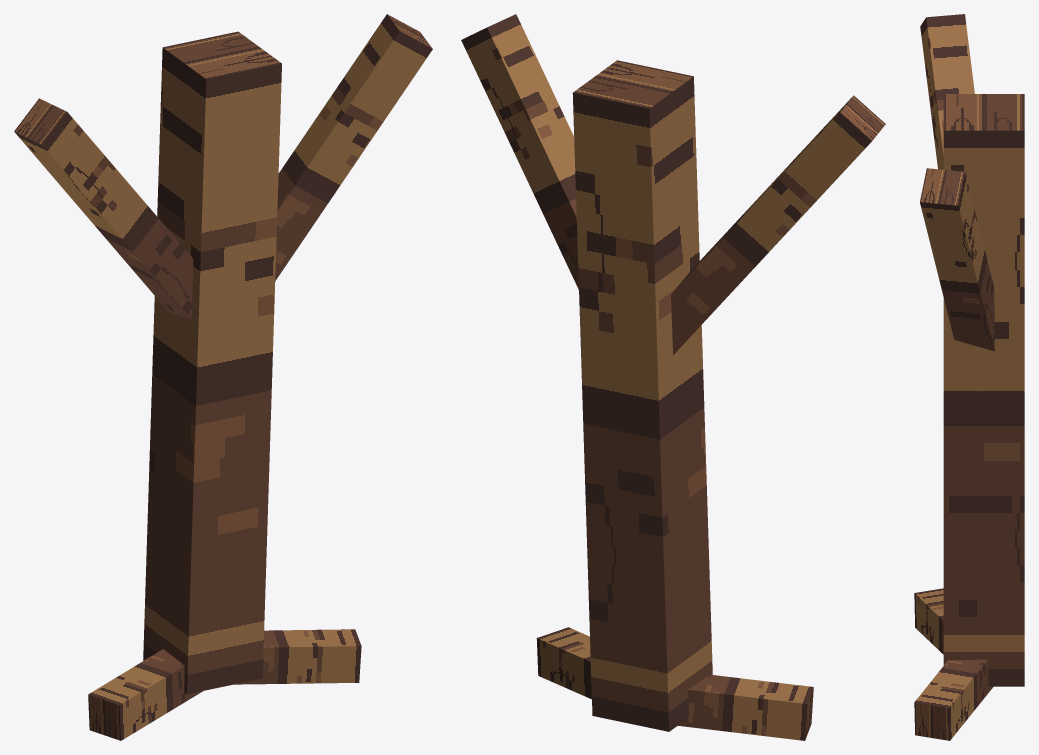
Rendered from tree_trunk.glb.
3 renders of one model, left to right at view 1: azimuth 30°, elevation 25°; view 2: azimuth 150°, elevation 25°; view 3: azimuth 270°, elevation 25°, orthographic. The views are drawn at different scales.
Visible parts, largest first — view 1: tree_trunk_wood; view 2: tree_trunk_wood; view 3: tree_trunk_wood.
Part boxes in pixels (bbox=[...]): tree_trunk_wood: bbox=[14, 14, 432, 740]; tree_trunk_wood: bbox=[461, 14, 885, 740]; tree_trunk_wood: bbox=[914, 14, 1024, 740].
Size of the model in its own units: 2.09 by 3.13 by 0.5309.
Materials: 1 (1 with a texture image).
